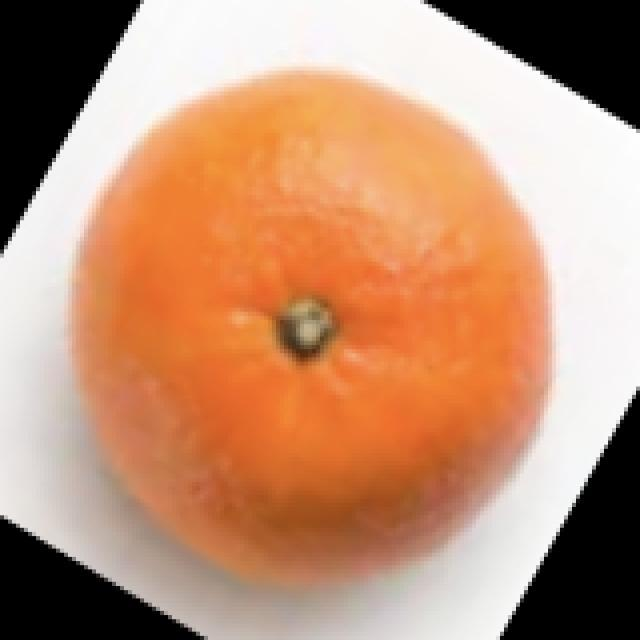Orange: (67, 63, 554, 588)
